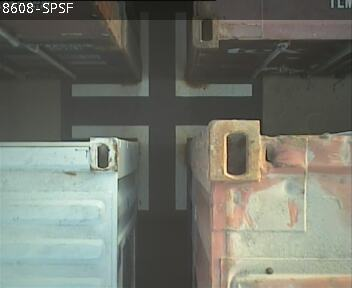groundmarker_1: (70, 12, 251, 97), (70, 123, 204, 209)
